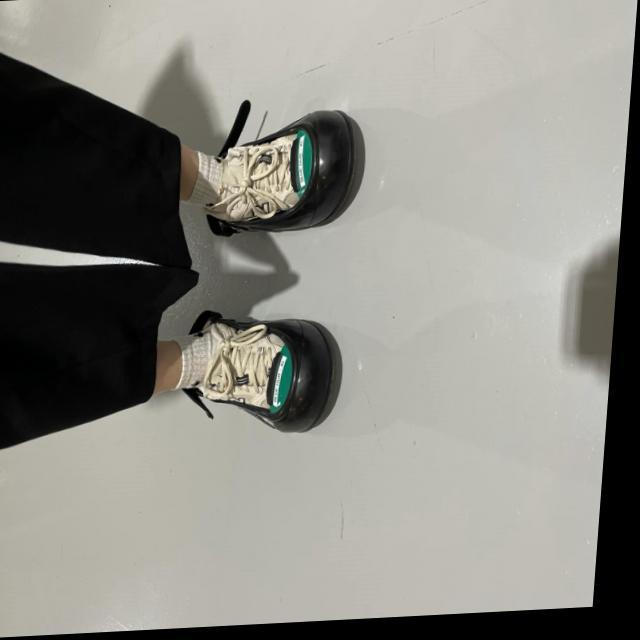shoes: (204, 108, 373, 240), (182, 305, 347, 438)
